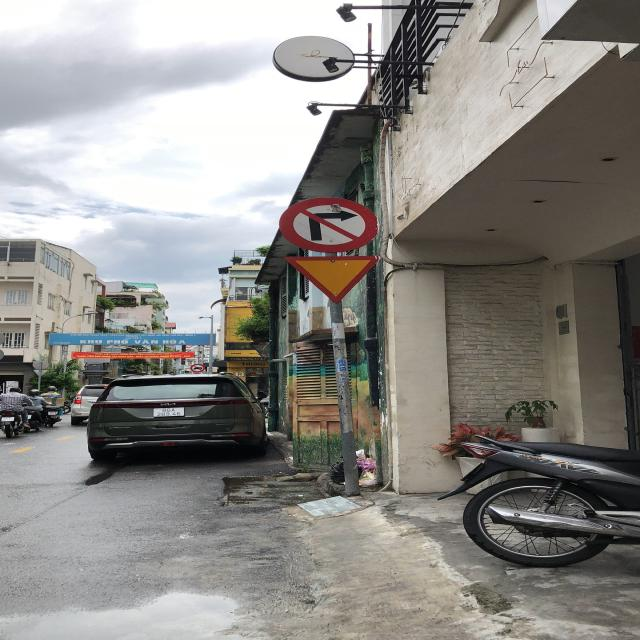Bien bao cam re phai: (279, 196, 387, 254)
Bien bao giao nhau voi duong uu tien: (272, 254, 390, 303)
